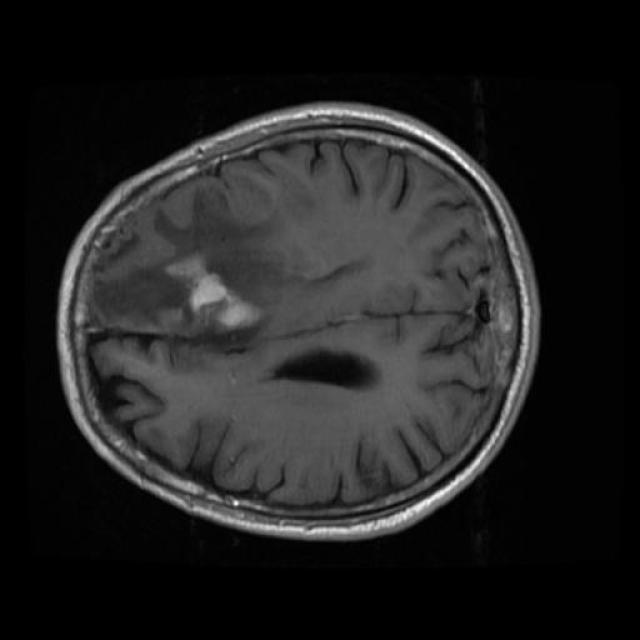Glioma: (119, 254, 261, 338)
